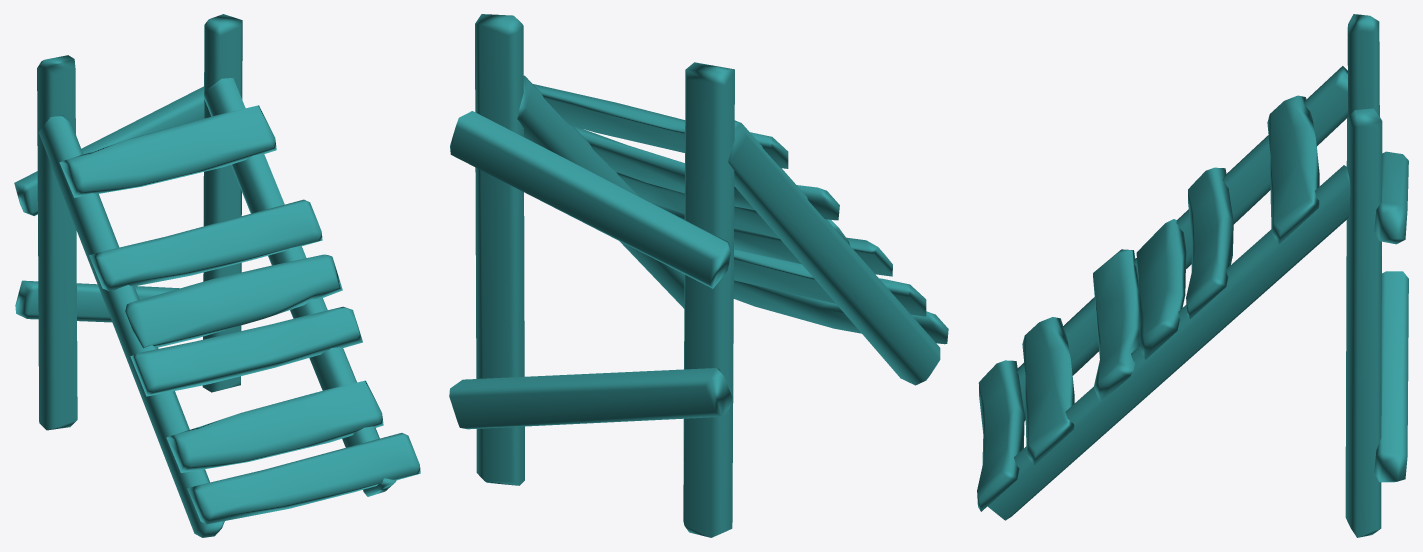
File: SM_Construction_Kit_Ladder.fbx
3 views of the same model, side by side, from view 1: azimuth 30°, elevation 25°; view 2: azimuth 150°, elevation 25°; view 3: azimuth 270°, elevation 25° (orthographic). The views are drawn at different scales.
Parts seen in each view (by area): view 1: SM_Construction_Kit_Ladder; view 2: SM_Construction_Kit_Ladder; view 3: SM_Construction_Kit_Ladder.
Boxes of the visible parts, x1,y1,x2,y2 form: SM_Construction_Kit_Ladder: (14, 14, 420, 537); SM_Construction_Kit_Ladder: (449, 14, 948, 537); SM_Construction_Kit_Ladder: (977, 14, 1408, 537).
Size of the model in its own units: 106 by 166 by 156.
